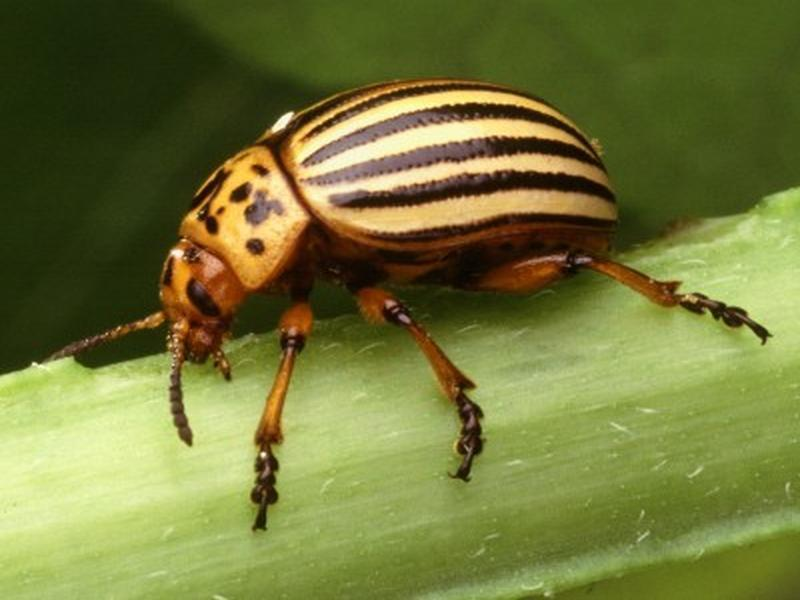hrosc: (145, 64, 629, 451)
